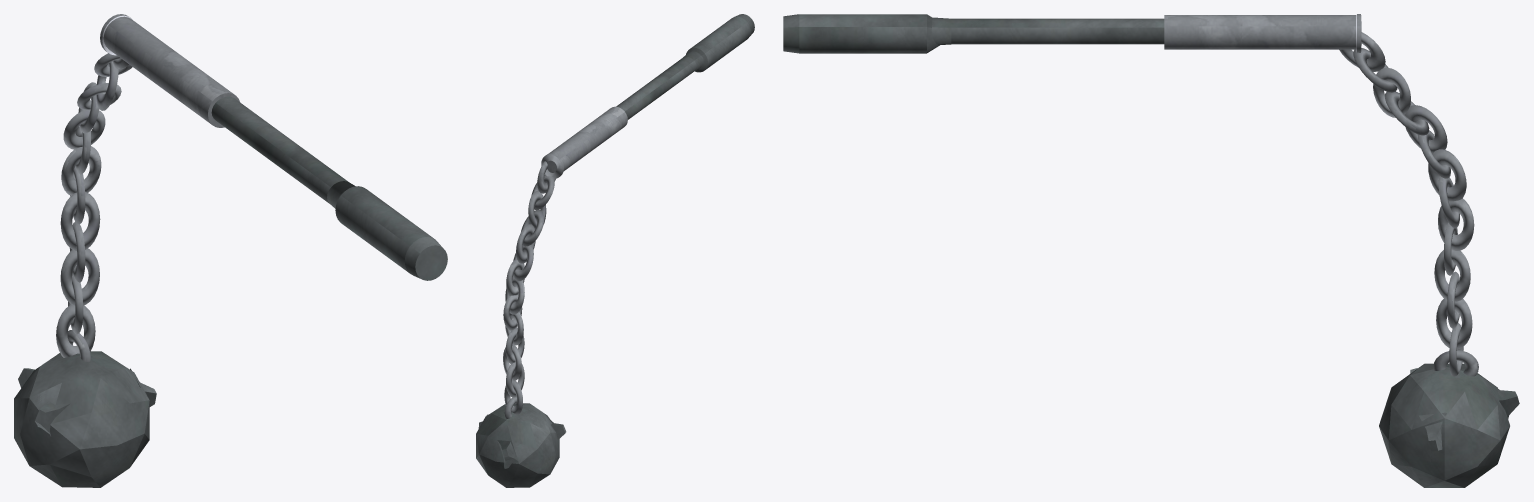
File: Flail.obj
3 renders of one model, left to right at view 1: azimuth 30°, elevation 25°; view 2: azimuth 150°, elevation 25°; view 3: azimuth 270°, elevation 25°, orthographic. The views are drawn at different scales.
Parts seen in each view (by area): view 1: icosphere, torus%, attachment_silencer, attachment_barrelThin, attachment_barrelEnd, tree_branchLong; view 2: icosphere, torus%, attachment_silencer, attachment_barrelThin, attachment_barrelEnd, tree_branchLong; view 3: icosphere, torus%, attachment_barrelThin, attachment_barrelEnd, attachment_silencer, tree_branchLong.
Boxes of the visible parts, x1=… form: icosphere: x1=14, y1=351, x2=149, y2=487; torus%: x1=56, y1=53, x2=132, y2=361; attachment_silencer: x1=100, y1=14, x2=447, y2=280; attachment_barrelThin: x1=103, y1=16, x2=239, y2=127; attachment_barrelEnd: x1=211, y1=96, x2=355, y2=208; tree_branchLong: x1=18, y1=368, x2=156, y2=435; icosphere: x1=476, y1=403, x2=559, y2=487; torus%: x1=503, y1=161, x2=555, y2=418; attachment_silencer: x1=541, y1=14, x2=754, y2=178; attachment_barrelThin: x1=548, y1=106, x2=627, y2=170; attachment_barrelEnd: x1=616, y1=51, x2=703, y2=119; tree_branchLong: x1=478, y1=414, x2=566, y2=468; icosphere: x1=1379, y1=363, x2=1509, y2=487; torus%: x1=1339, y1=32, x2=1478, y2=376; attachment_barrelThin: x1=1164, y1=15, x2=1356, y2=49; attachment_barrelEnd: x1=931, y1=17, x2=1164, y2=44; attachment_silencer: x1=783, y1=14, x2=1361, y2=53; tree_branchLong: x1=1410, y1=368, x2=1519, y2=451.
Size of the model in its own units: 0.2625 by 0.9769 by 1.4.
5 materials, 4 textured.
